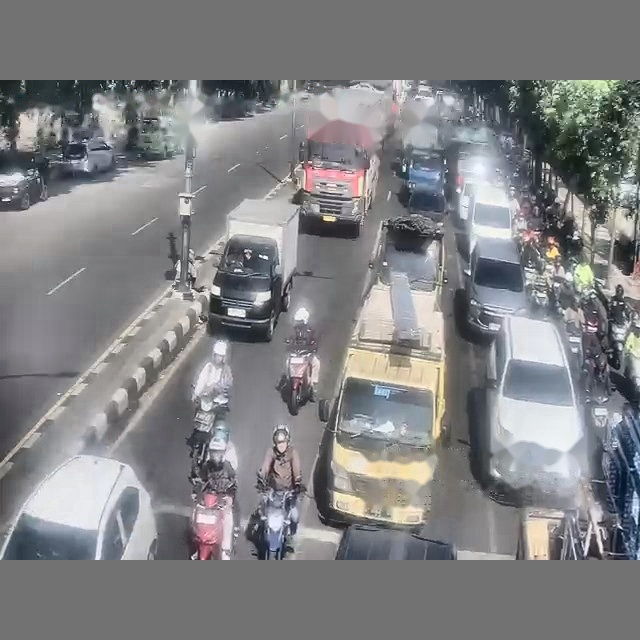Mobil: (481, 316, 584, 496), (0, 455, 157, 559), (464, 238, 527, 334), (335, 524, 456, 560), (467, 184, 512, 252), (0, 151, 48, 210), (61, 138, 116, 174), (457, 175, 485, 221)
Motor: (187, 393, 228, 472), (256, 489, 295, 559), (191, 491, 230, 559), (286, 351, 311, 415), (609, 321, 629, 368)
Truk: (318, 268, 449, 529), (208, 199, 298, 340), (299, 119, 380, 234)
